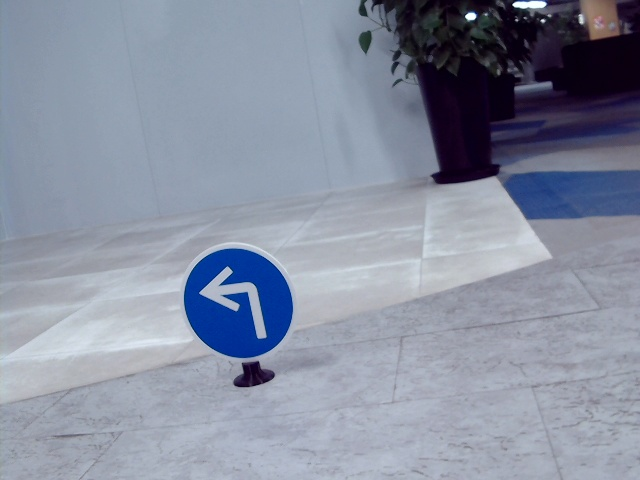turn_left: (197, 266, 274, 338)
